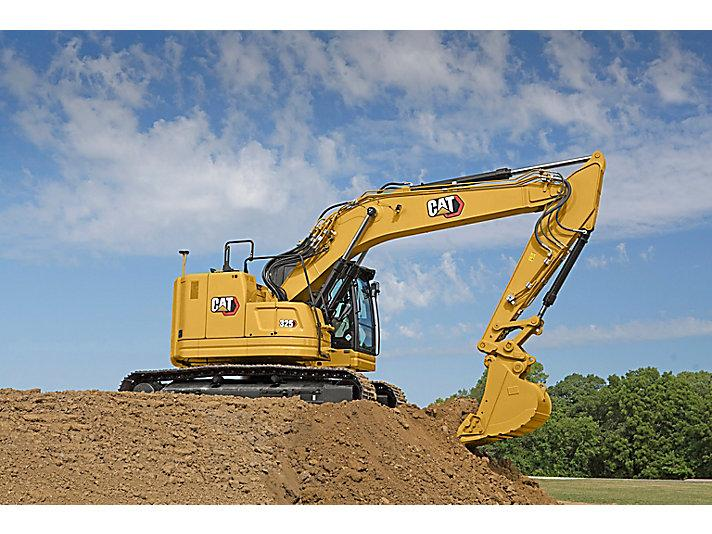excavator: (168, 164, 599, 386)
